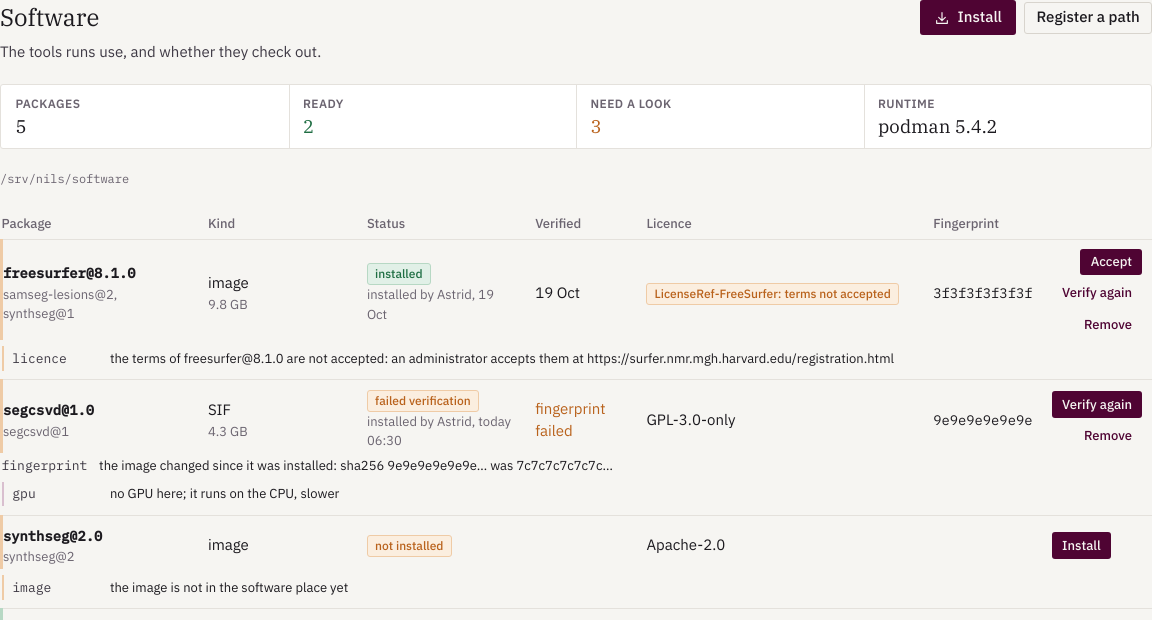
Scenario: the doors › shows the words of an outcome in the page's line after the reload (review fix 2)
Step 1. Click the 1st button "Install" → point(968, 18), box [920,0,1016,35]
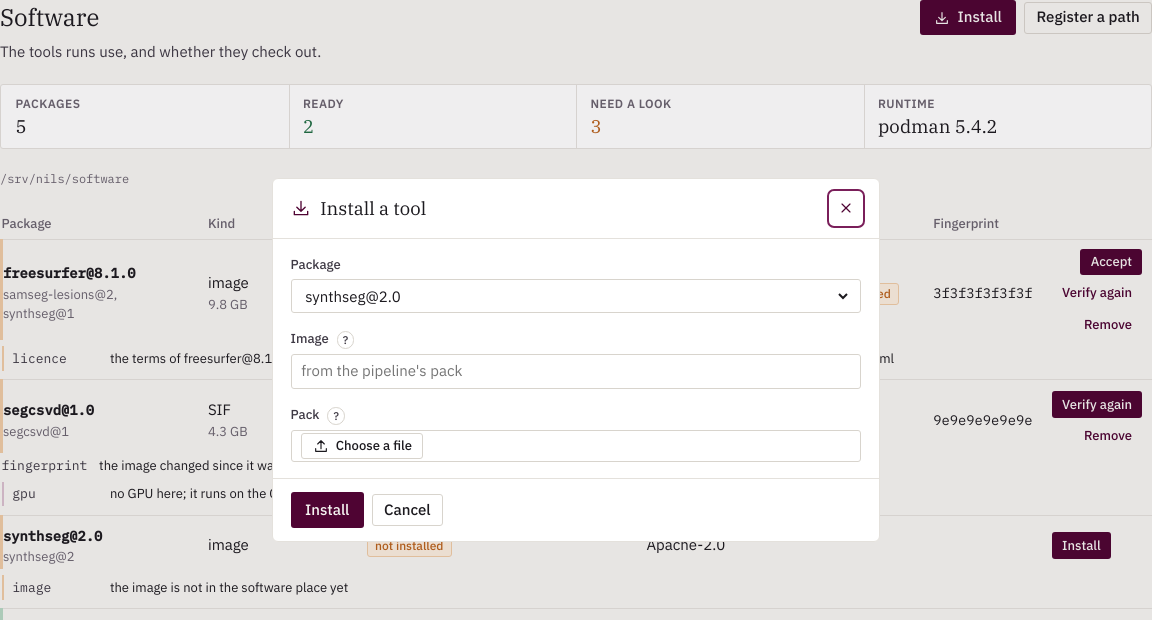
Step 2. Click the button "Install" → point(327, 510), box [291,492,364,528]
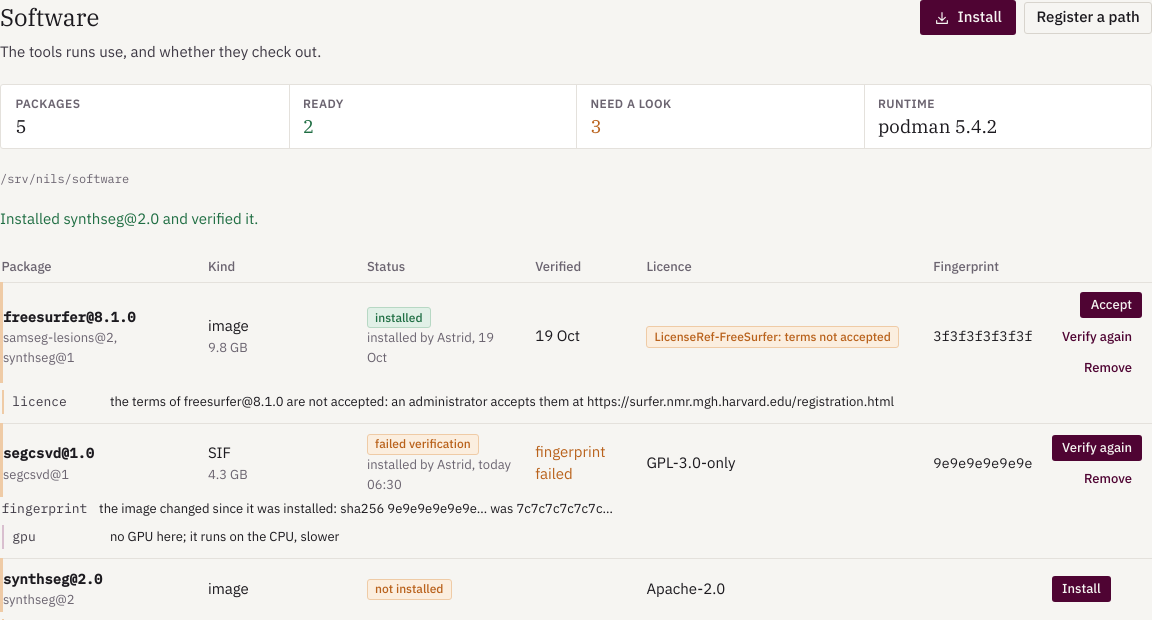
Expected: the text with class "ok-words" reads "Installed synthseg@2.0 and verified it.", [0,209,258,228]
